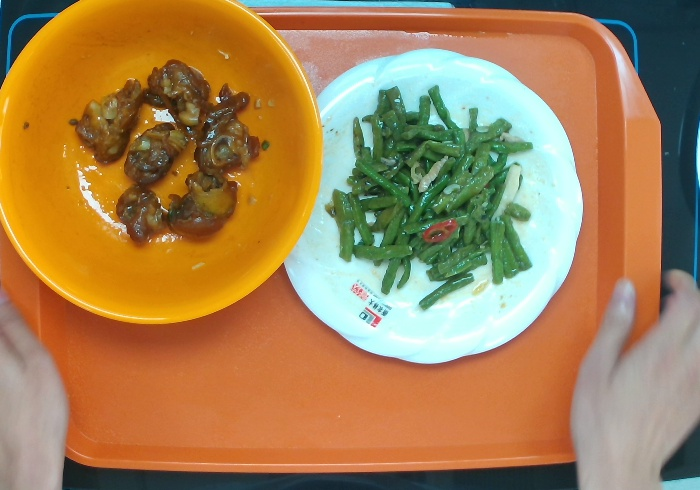ZNLD-Hua_Bian_Wan: (278, 53, 583, 362)
ZNLD-Ju_Se_Tang_Wan: (1, 1, 328, 328)
